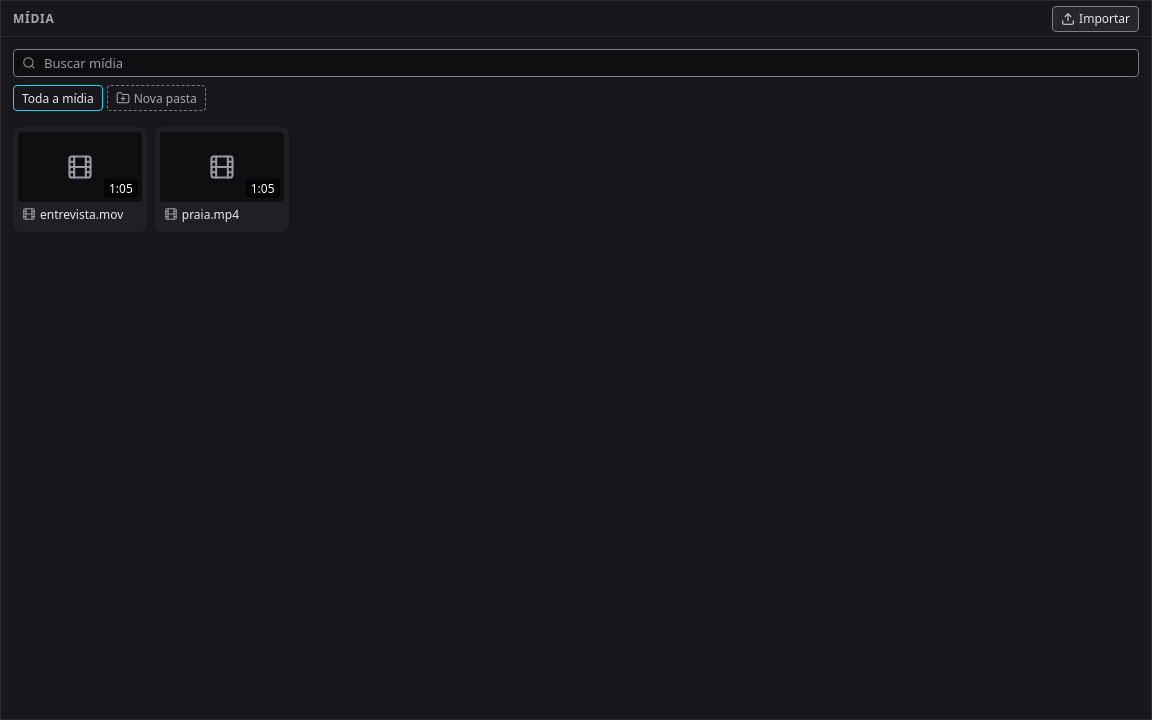
Test case: MediaPanel › mostra a mensagem de busca sem resultado
In the search field labelled "Buscar mídia": (587, 63) [44,50,1130,76], type "zzz"
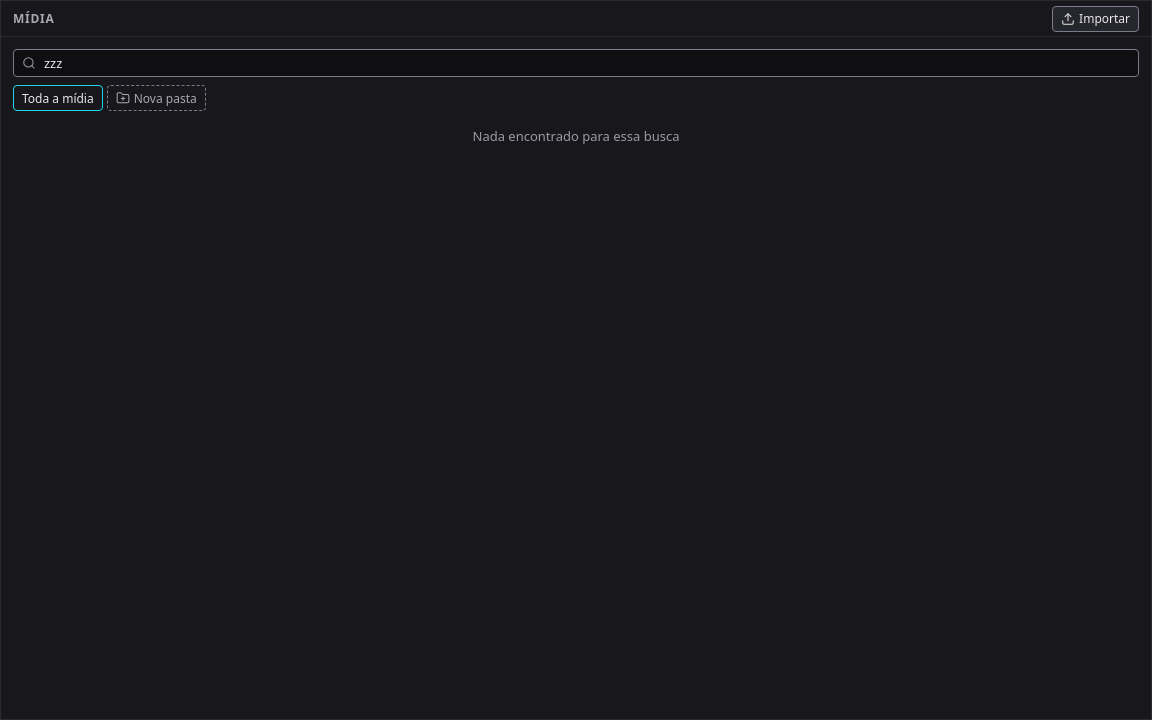
Now the text "Nada encontrado para essa busca" is shown, box [472,127,680,145]
